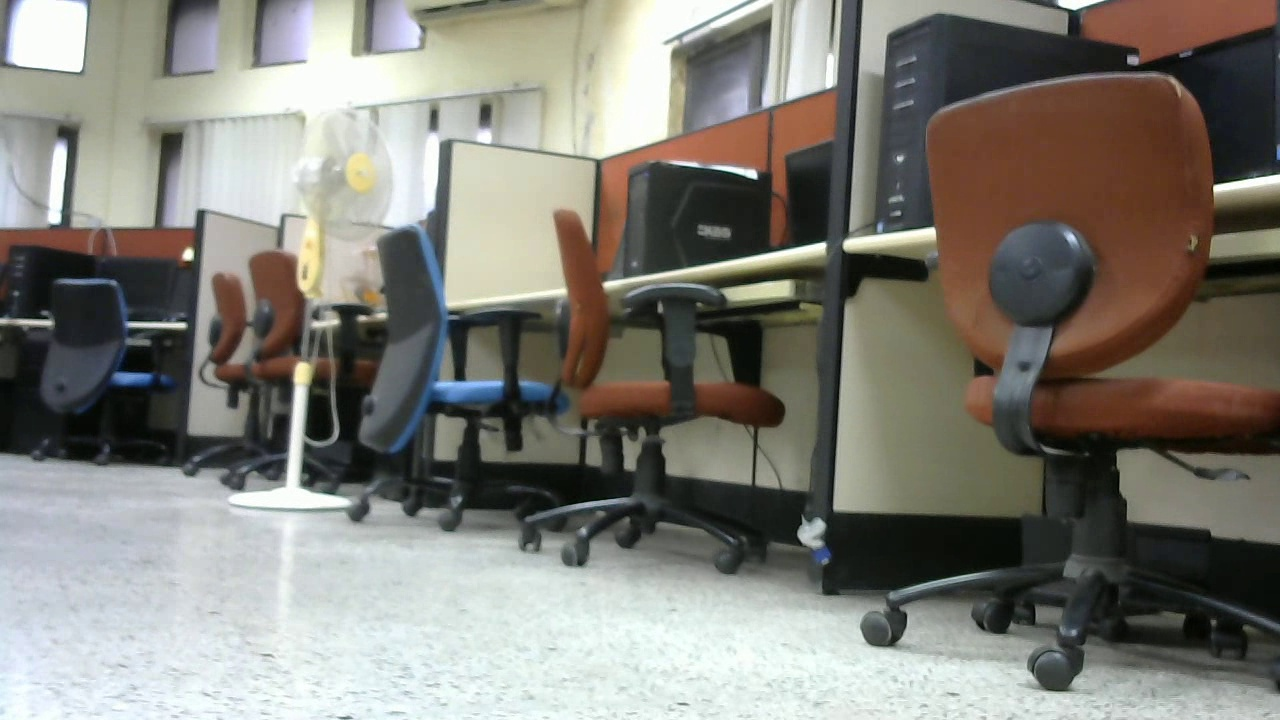chair: (853, 75, 1280, 699), (511, 205, 787, 578), (346, 224, 584, 528), (177, 248, 373, 493), (28, 269, 188, 470)
